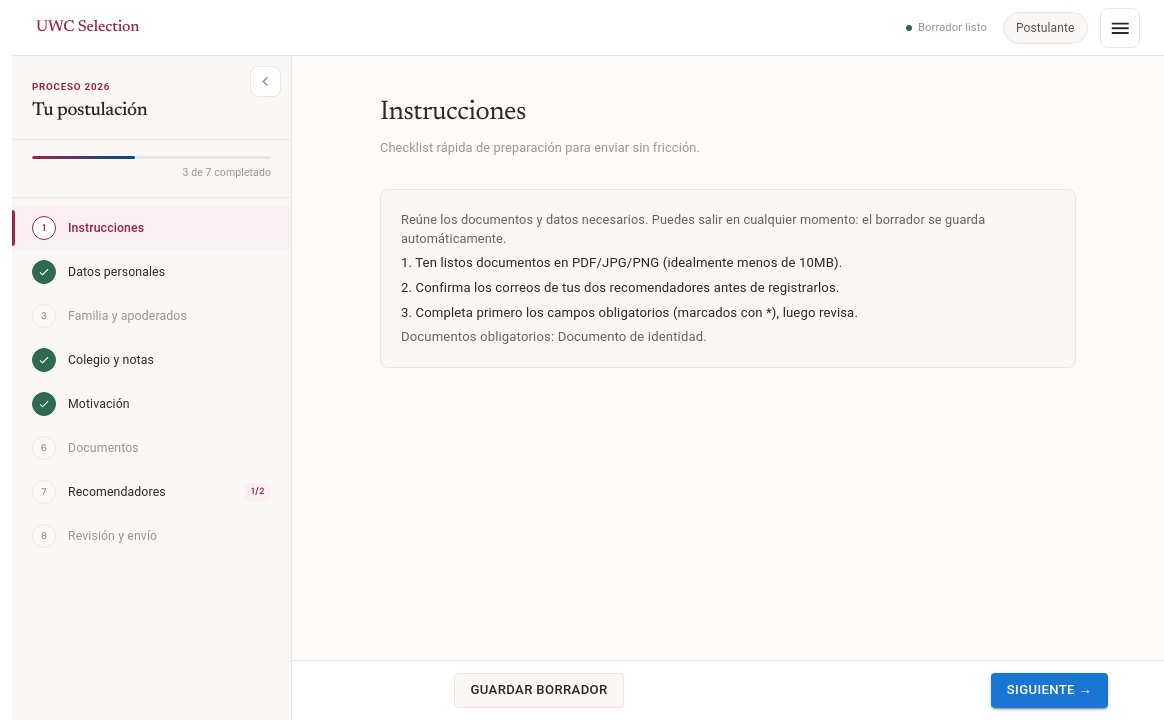
ApplicantApplicationForm › shows reminder-only controls after a recommender was already invited until the email changes
The width and height of the screenshot is (1164, 720).
Click the button "7 Recomendadores 1/2" at coordinates (152, 492), box [12,470,291,514]
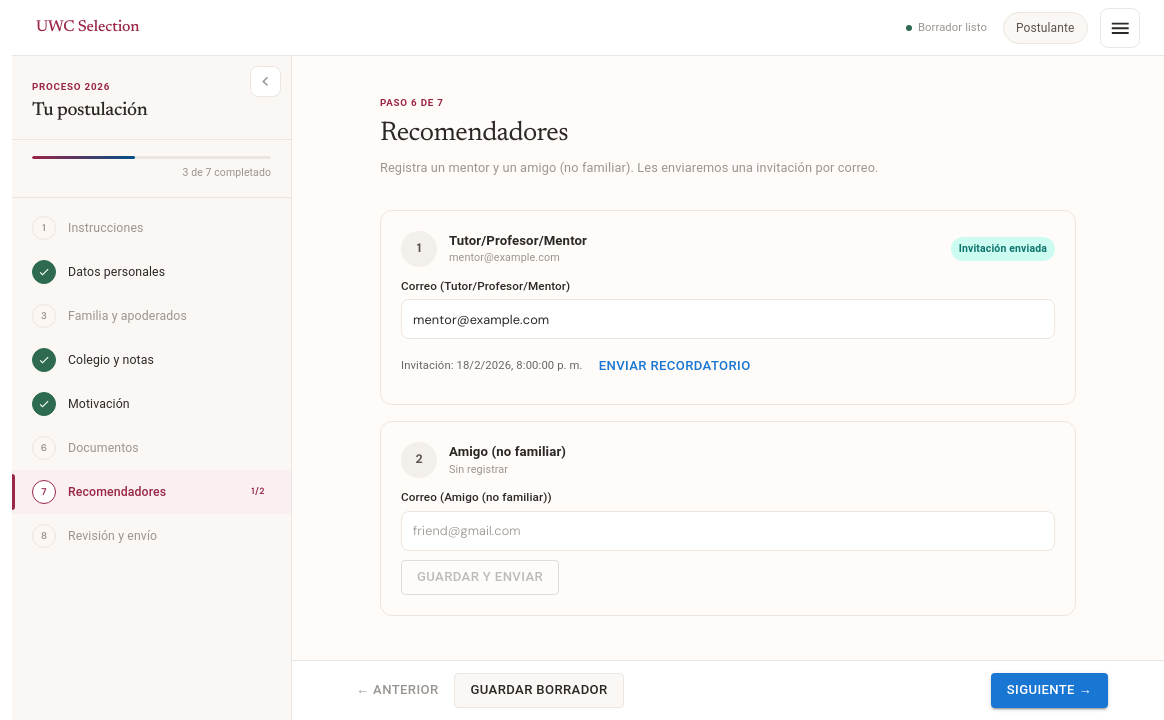
expect the button "Guardar y reenviar" is not shown: met
expect the button "Enviar recordatorio" is shown: met, box [591,349,759,384]
Replace the text in the field named "Correo (Tutor/Profesor/Mentor)" with "nuevo-mentor@example.com" at coordinates (728, 319), box [401,301,1055,337]
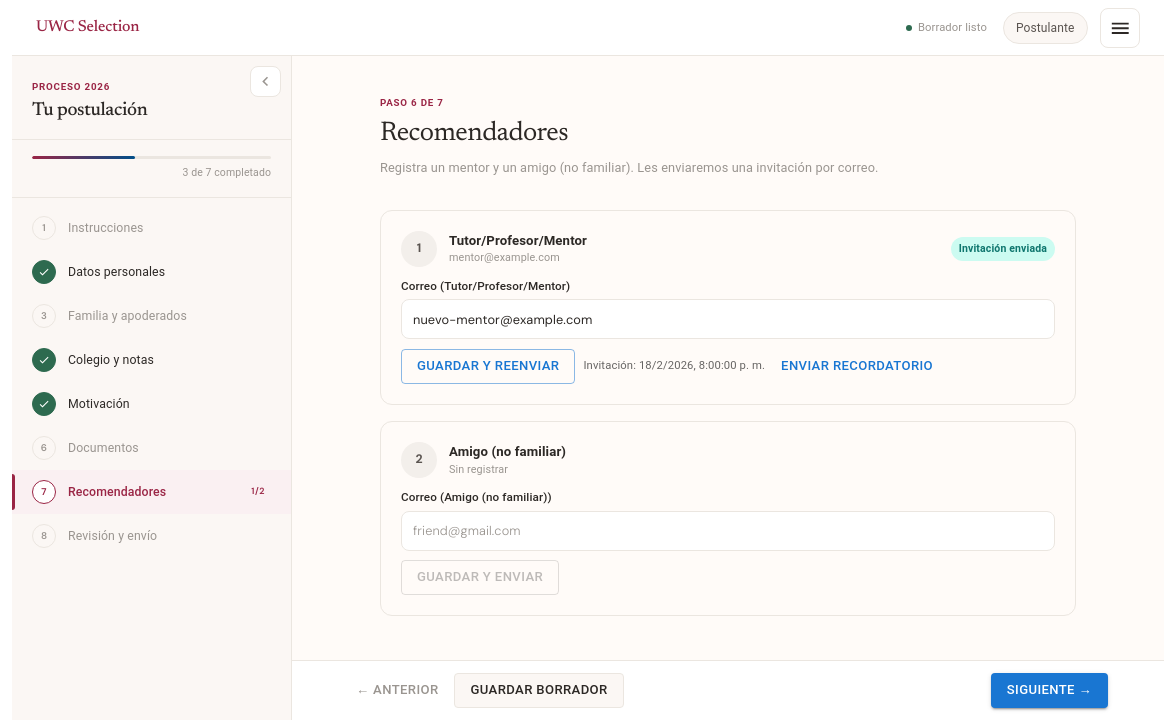
expect the button "Guardar y reenviar" is shown: met, box [401,349,575,384]
